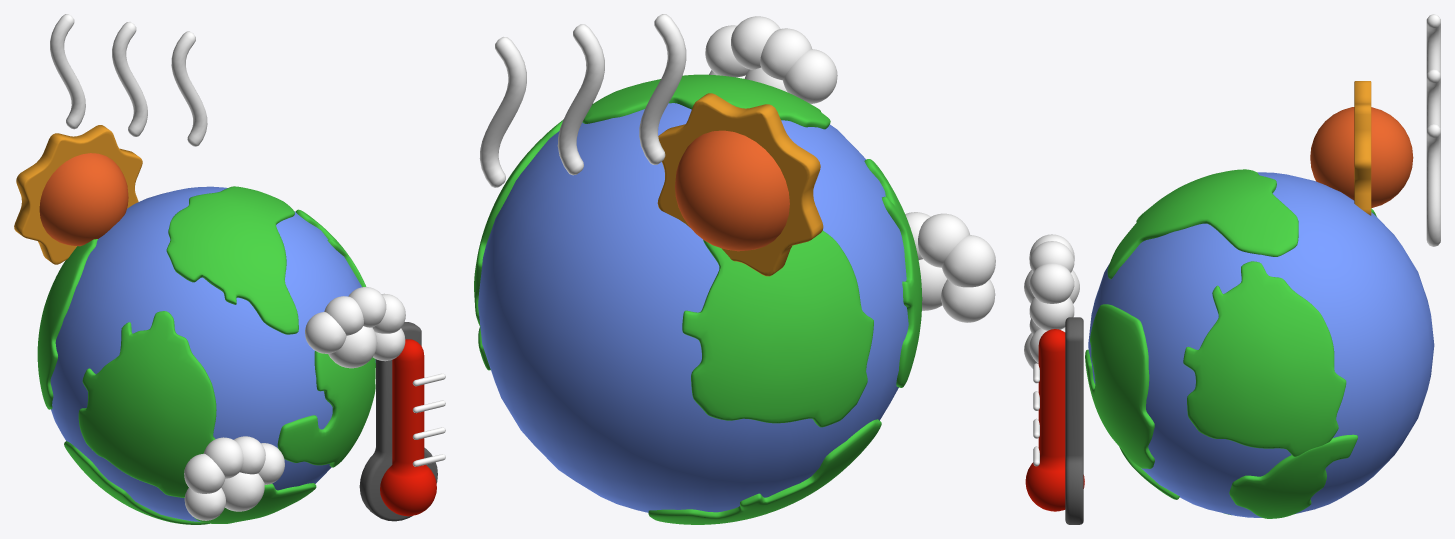
The model's file is Global Warming.glb.
3 views of the same model, side by side, from view 1: azimuth 30°, elevation 25°; view 2: azimuth 150°, elevation 25°; view 3: azimuth 270°, elevation 25° (orthographic). The views are drawn at different scales.
Parts seen in each view (by area): view 1: Land, Sea, Sun, Cloud 1, Temperature, Cloud 2, Radiance, Steams, Base, Measures; view 2: Sea, Land, Sun, Radiance, Steams, Cloud 2, Cloud 1; view 3: Sea, Land, Sun, Temperature, Cloud 2, Base, Steams, Radiance, Cloud 1, Measures.
Boxes of the visible parts, left/top/right/bottom form: Land: left=37, top=186, right=375, bottom=524; Sea: left=50, top=186, right=375, bottom=521; Sun: left=39, top=153, right=128, bottom=246; Cloud 1: left=184, top=436, right=284, bottom=520; Temperature: left=380, top=339, right=436, bottom=516; Cloud 2: left=305, top=287, right=405, bottom=368; Radiance: left=14, top=125, right=142, bottom=264; Steams: left=50, top=14, right=207, bottom=146; Base: left=359, top=322, right=437, bottom=521; Measures: left=412, top=373, right=445, bottom=466; Sea: left=478, top=103, right=908, bottom=512; Land: left=474, top=74, right=922, bottom=524; Sun: left=675, top=130, right=789, bottom=251; Radiance: left=657, top=93, right=823, bottom=276; Steams: left=479, top=14, right=686, bottom=187; Cloud 2: left=705, top=16, right=837, bottom=103; Cloud 1: left=905, top=212, right=995, bottom=322; Sea: left=1088, top=172, right=1434, bottom=517; Land: left=1085, top=169, right=1376, bottom=518; Sun: left=1310, top=107, right=1413, bottom=207; Temperature: left=1025, top=329, right=1084, bottom=511; Cloud 2: left=1024, top=234, right=1079, bottom=330; Base: left=1065, top=317, right=1083, bottom=524; Steams: left=1426, top=14, right=1440, bottom=246; Radiance: left=1354, top=81, right=1371, bottom=215; Cloud 1: left=1024, top=312, right=1074, bottom=368; Measures: left=1033, top=363, right=1039, bottom=466.
Size of the model in its own units: 1.71 by 2.5 by 2.04.
